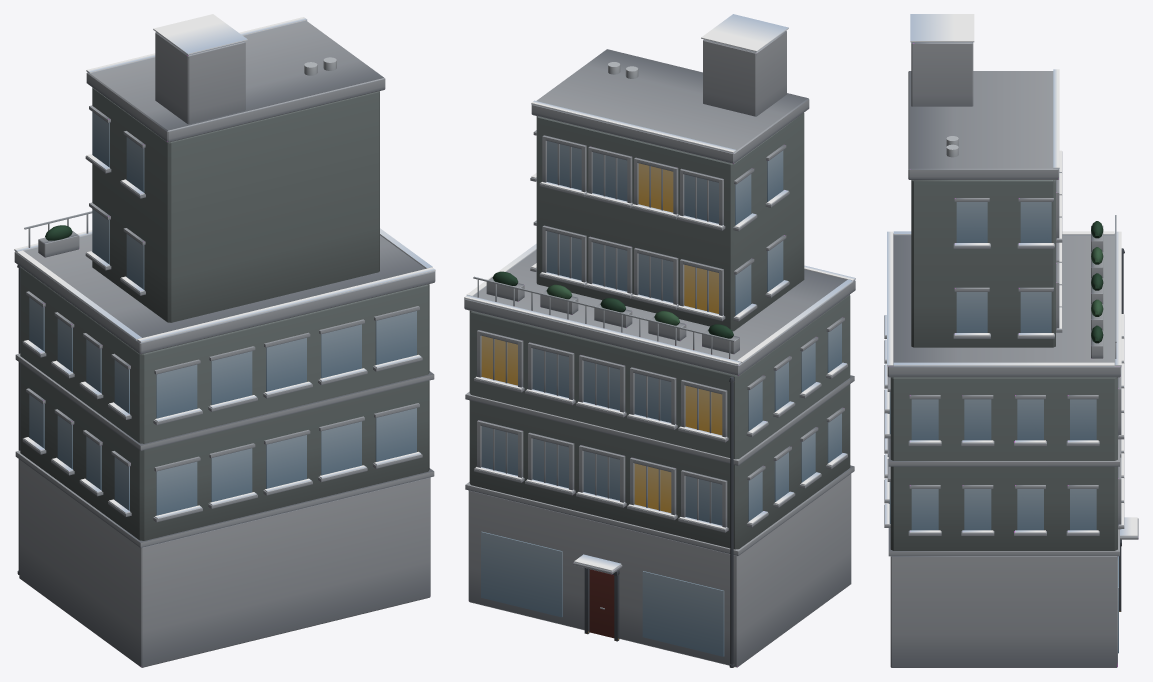
The model's file is ck_midrise_setback.fbx.
3 renders of one model, left to right at view 1: azimuth 30°, elevation 25°; view 2: azimuth 150°, elevation 25°; view 3: azimuth 270°, elevation 25°, orthographic. The views are drawn at different scales.
Visible parts, largest first — view 1: ck_midrise_setback; view 2: ck_midrise_setback; view 3: ck_midrise_setback.
Part boxes in pixels (<box>): ck_midrise_setback: <box>14,14,435,667</box>; ck_midrise_setback: <box>464,14,855,667</box>; ck_midrise_setback: <box>884,14,1138,667</box>.
Size of the model in its own units: 3122 by 5880 by 2462.
